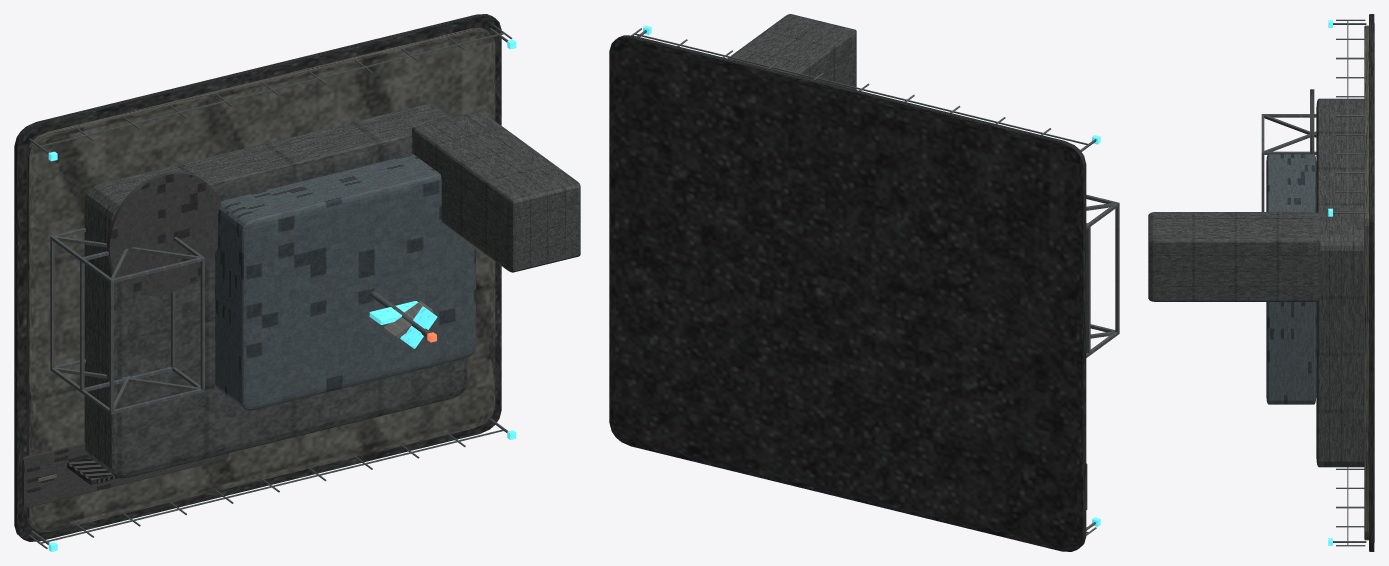
Rendered from b-14-special-ops-center-lod0.glb.
The picture shows the model from 3 angles, left to right: view 1: azimuth 30°, elevation 25°; view 2: azimuth 150°, elevation 25°; view 3: azimuth 270°, elevation 25°; orthographic projection. The views are drawn at different scales.
Parts seen in each view (by area): view 1: foundation_inner_pad, primary_terrace_upper, primary_terrace_lower, training_tower, foundation, drone_pad, specops_tunnel_road, underground_entry; view 2: foundation, training_tower, training_rig_beam_y_2_w, training_rig_beam_y_1_w; view 3: primary_terrace_lower, training_tower, primary_terrace_upper, foundation, foundation_inner_pad, drone_pad.
Part boxes in pixels (left/top/right/bottom): foundation_inner_pad: left=26, top=28, right=495, bottom=532; primary_terrace_upper: left=215, top=154, right=475, bottom=410; primary_terrace_lower: left=84, top=104, right=467, bottom=478; training_tower: left=412, top=111, right=580, bottom=272; foundation: left=14, top=14, right=501, bottom=541; drone_pad: left=107, top=171, right=221, bottom=295; specops_tunnel_road: left=22, top=442, right=229, bottom=507; underground_entry: left=67, top=458, right=119, bottom=484; foundation: left=609, top=35, right=1086, bottom=551; training_tower: left=727, top=14, right=856, bottom=89; training_rig_beam_y_2_w: left=1115, top=202, right=1119, bottom=332; training_rig_beam_y_1_w: left=1086, top=224, right=1090, bottom=353; primary_terrace_lower: left=1316, top=98, right=1364, bottom=467; training_tower: left=1148, top=212, right=1320, bottom=301; primary_terrace_upper: left=1266, top=154, right=1316, bottom=404; foundation: left=1369, top=14, right=1374, bottom=551; foundation_inner_pad: left=1364, top=25, right=1368, bottom=540; drone_pad: left=1310, top=89, right=1314, bottom=153.
Size of what is drawn, in the model's own units: 17 by 14 by 8.15.
Materials: 11 (11 with a texture image).
